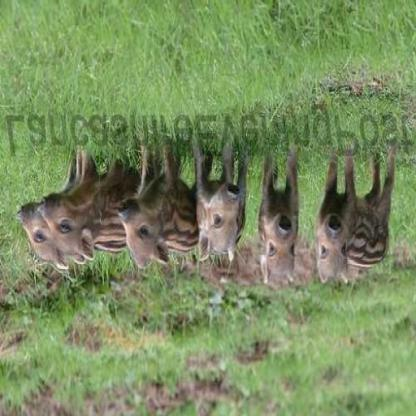boar: (307, 138, 397, 293), (124, 141, 199, 269), (191, 101, 251, 259), (45, 152, 138, 253), (254, 159, 307, 289), (15, 200, 53, 278)
